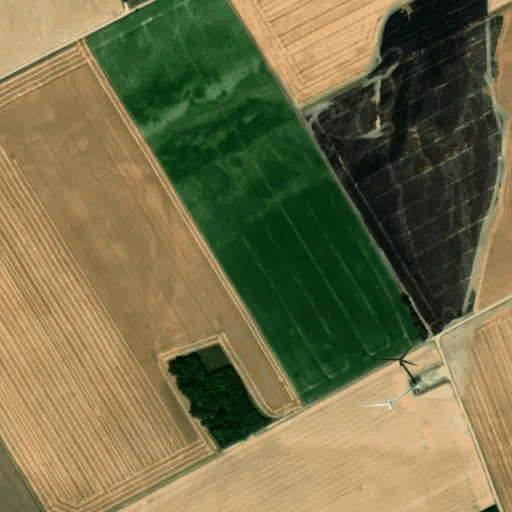wt: (363, 337, 437, 422)
